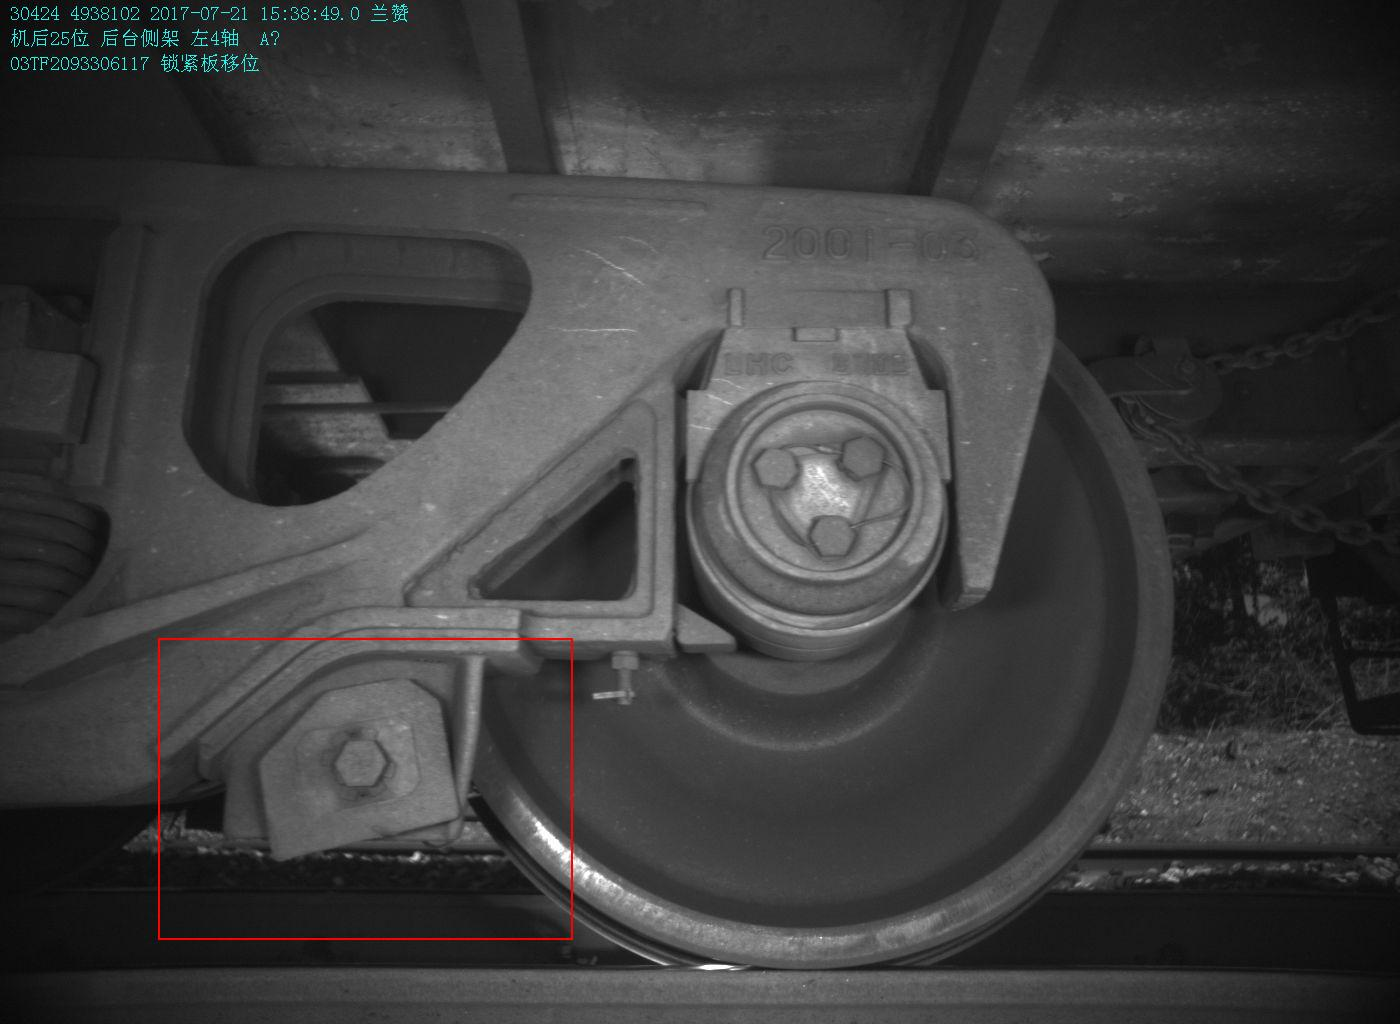Locking plate: (218, 655, 482, 861)
